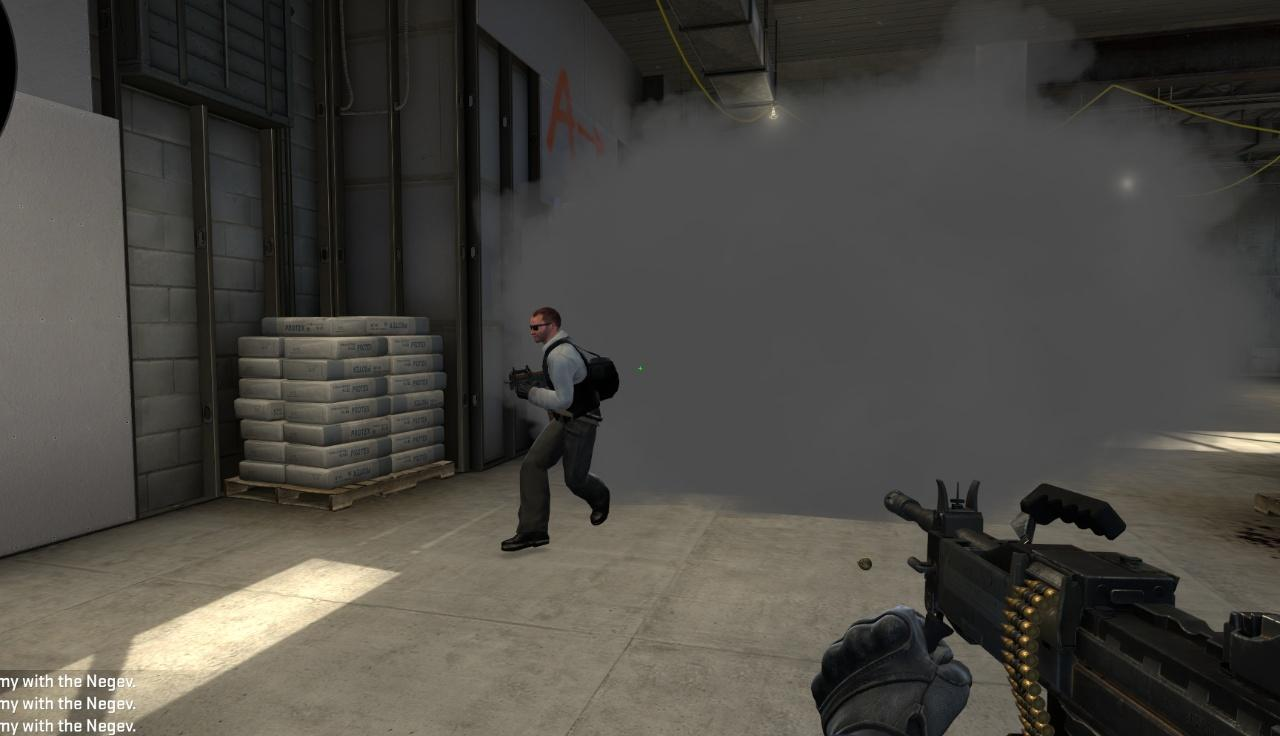rifle: (835, 479, 1280, 736)
tt: (500, 308, 610, 550)
tthead: (528, 308, 561, 343)
